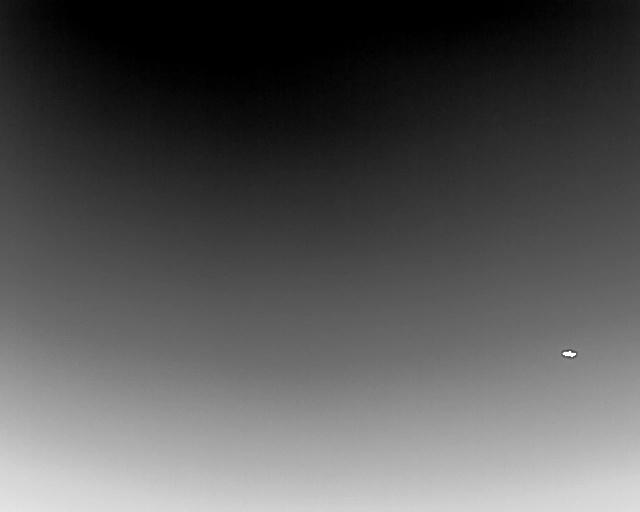fpv-drone: (561, 350, 577, 358)
